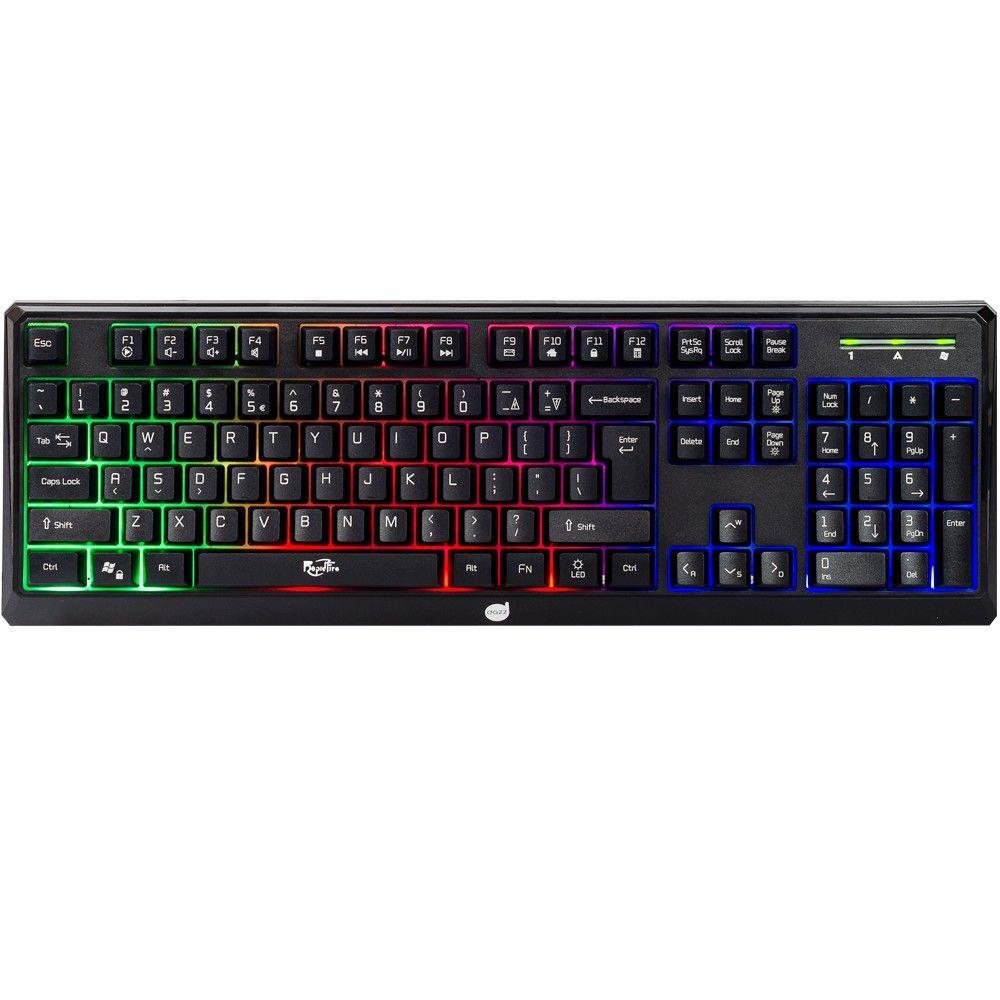keyboard: (4, 296, 998, 628)
